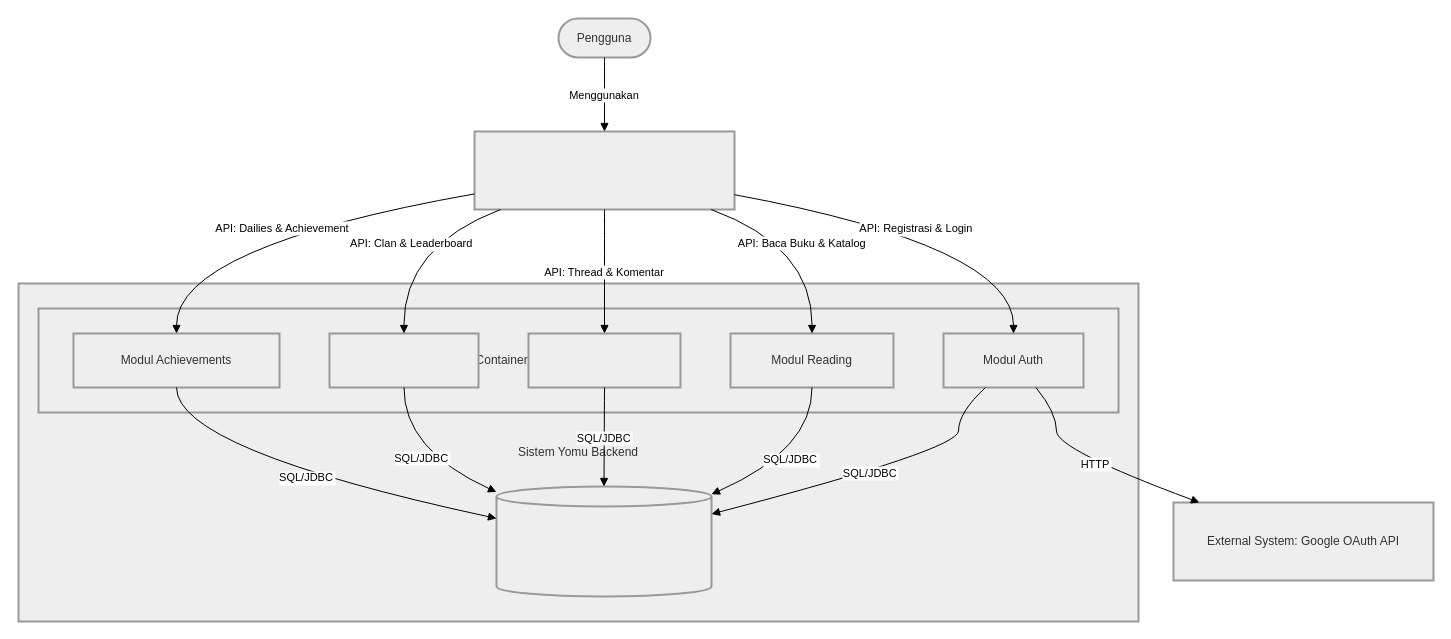
Image size: 1451x639. Some labels were removed from this diagram. Each missing label, with the centre of its shape:
Container: PostgreSQL Database: the point at 603,541
Frontend Application: Web: the point at 604,170
Modul Forum: the point at 604,360
Modul Social: the point at 403,360
